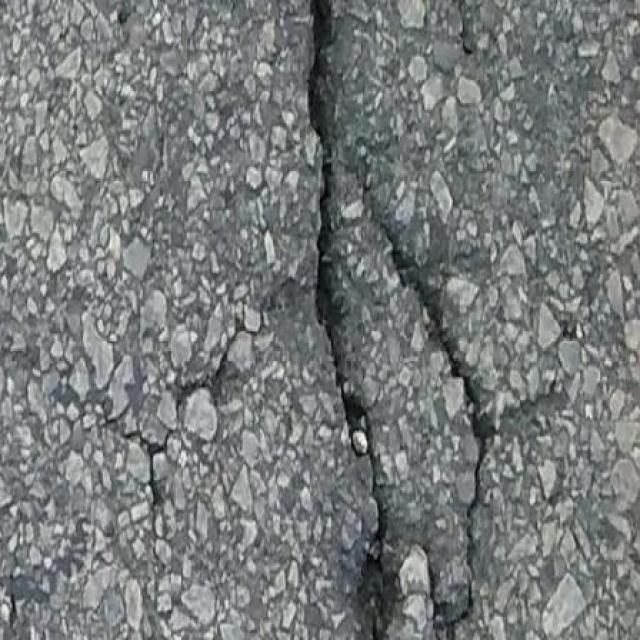Crack: (308, 0, 398, 639), (370, 209, 495, 639), (125, 315, 265, 521)
